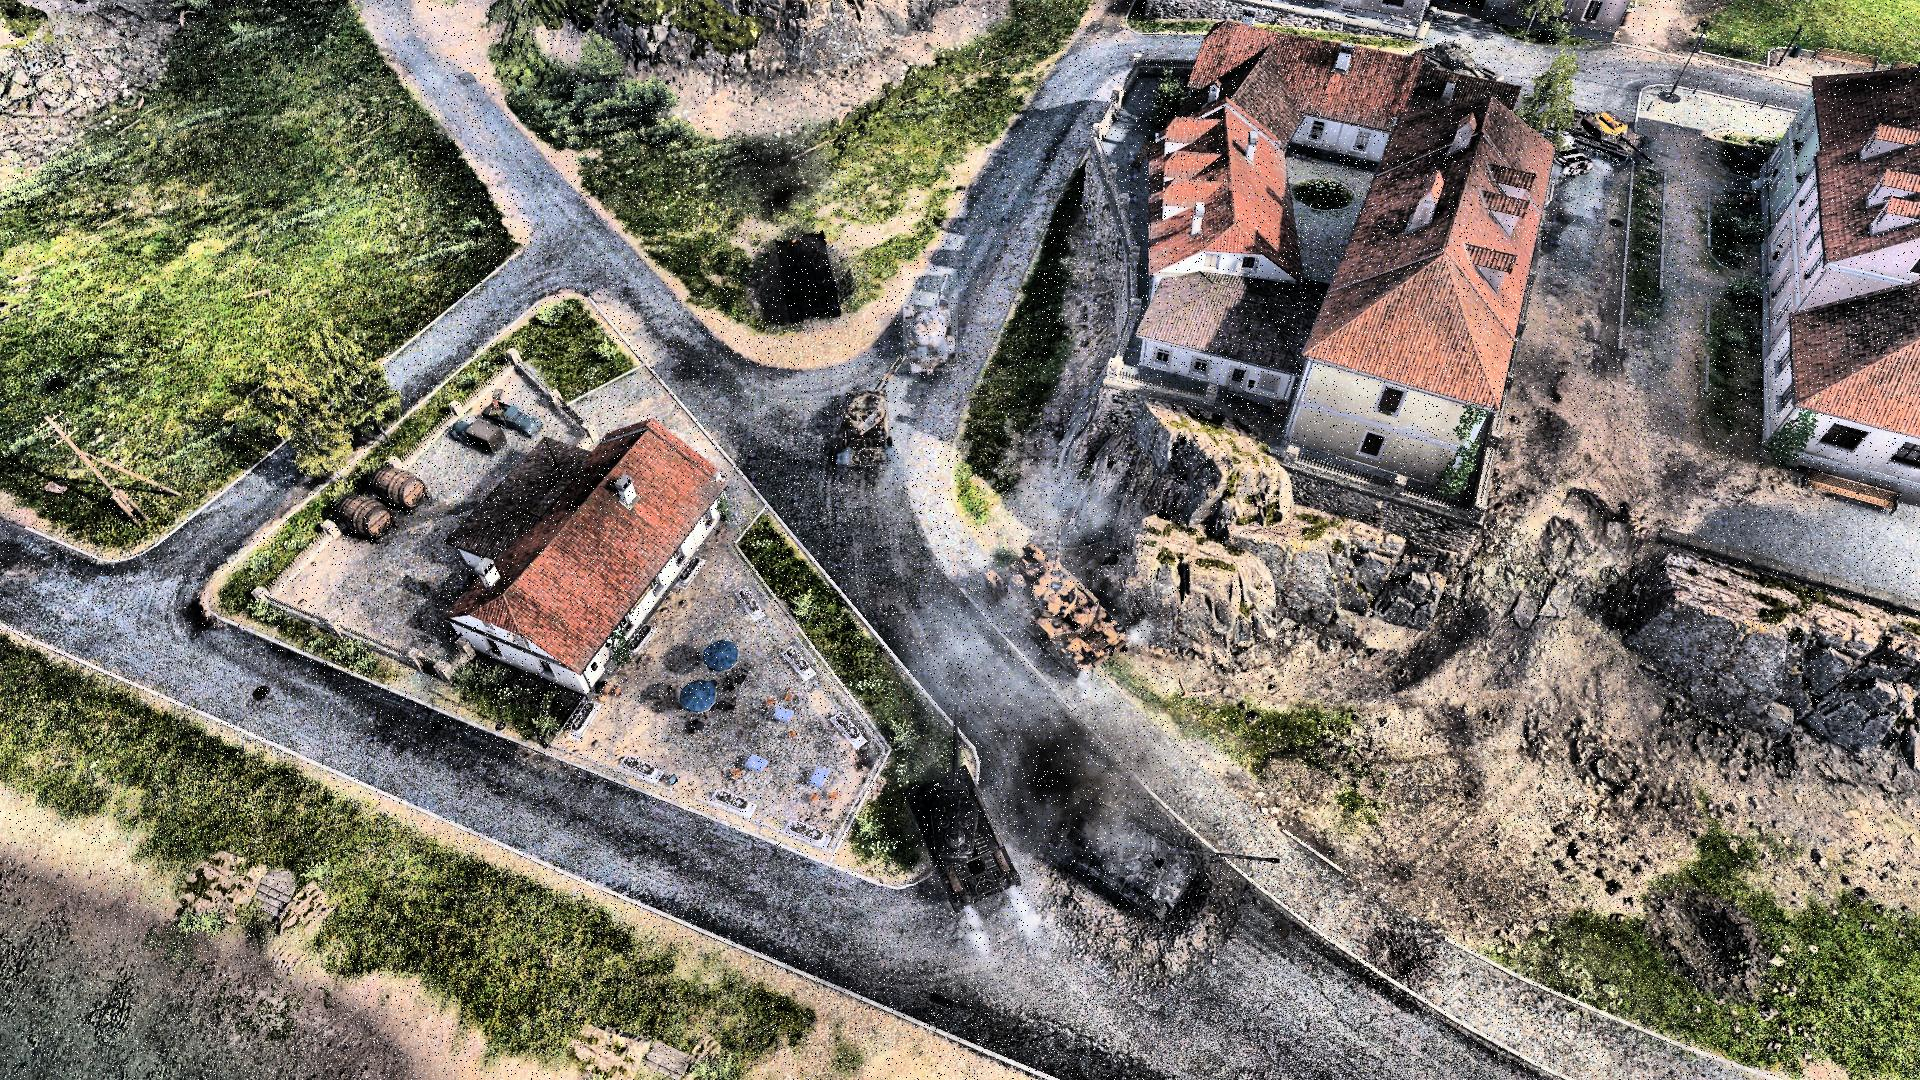military-vehicle: (907, 717, 1017, 912), (833, 358, 907, 467), (903, 270, 958, 372)
